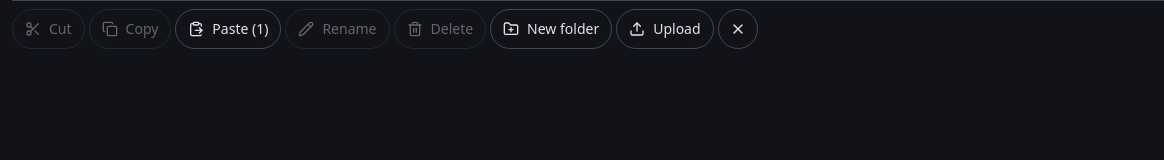
Test: a paste waiting for contention can be cancelled and leaves unaccepted files ready to retry
Click the button "Paste (1)" at [228, 29], box [175, 9, 281, 49]
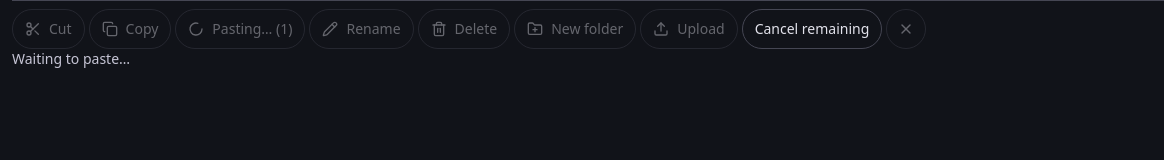
Expected: the text "Waiting to paste…" is shown, [12, 49, 130, 68]
Click the button "Cancel remaining" at [812, 29], box [742, 9, 882, 49]
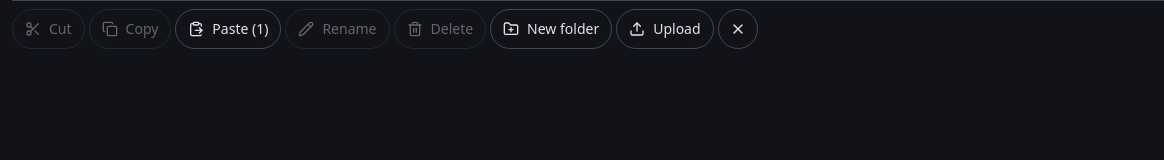
Expected: the button "Paste (1)" is enabled, [175, 9, 281, 49]
Expected: the text "Waiting to paste…" is gone
Expected: the message "Waiting to paste…" is gone
